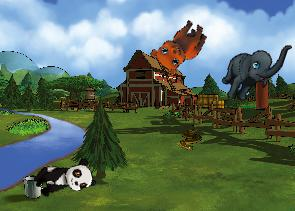bear: (146, 10, 211, 80)
elephant: (217, 28, 292, 112)
panda: (31, 156, 96, 201)
